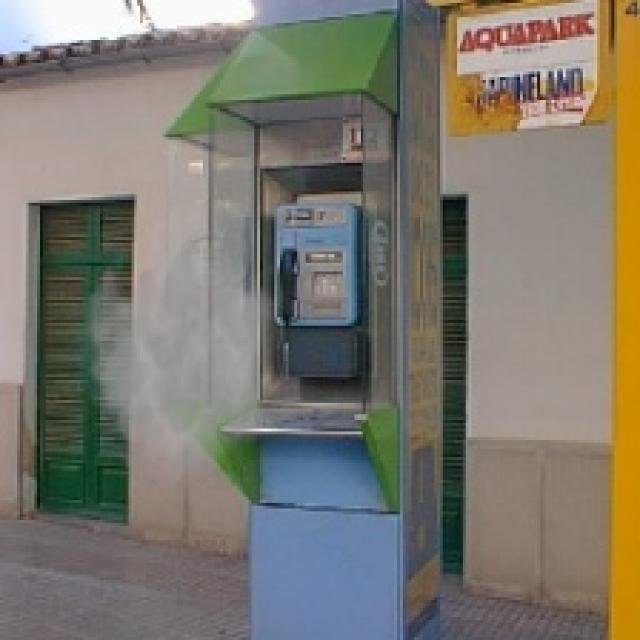Smoke: (68, 228, 283, 498)
